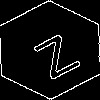Z: (25, 25, 82, 80)
